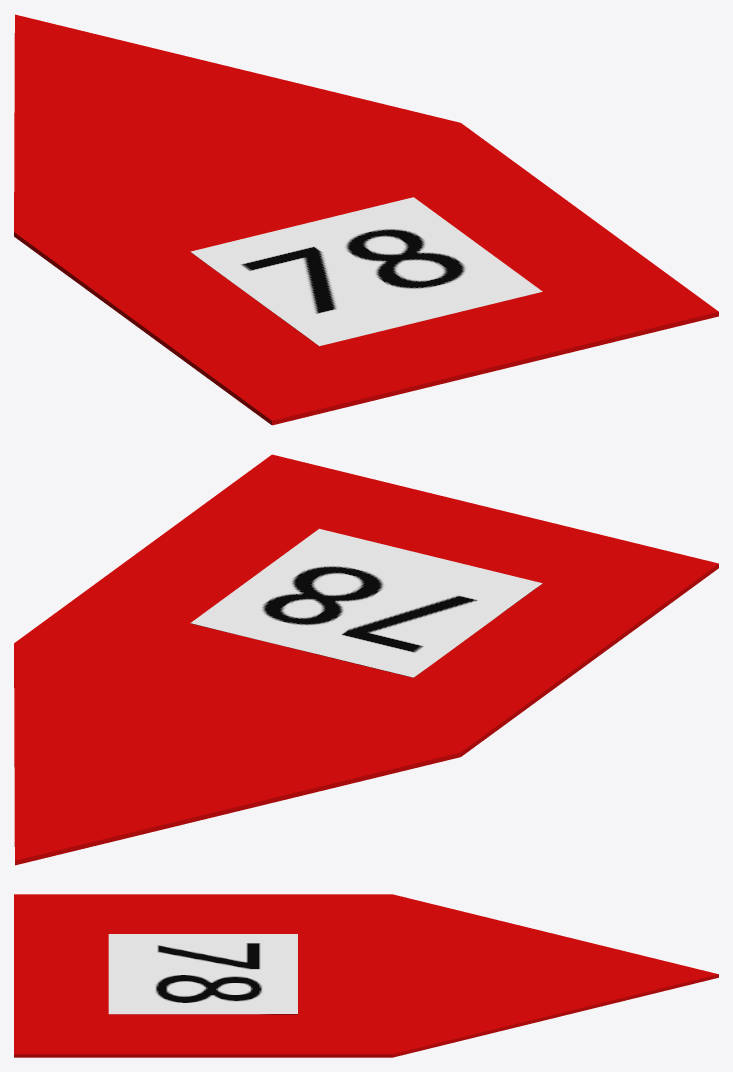
3 views of the same model, one above another, from view 1: azimuth 30°, elevation 25°; view 2: azimuth 150°, elevation 25°; view 3: azimuth 270°, elevation 25° (orthographic). The views are drawn at different scales.
Parts seen in each view (by area): view 1: 立方体, 柱体, 立方体.001; view 2: 立方体, 柱体, 立方体.001; view 3: 立方体, 柱体, 立方体.001.
Part boxes in pixels (x1,y1,x2,y2): 立方体: (14, 123, 718, 425); 柱体: (14, 14, 460, 231); 立方体.001: (190, 197, 542, 346); 立方体: (14, 454, 718, 756); 柱体: (14, 643, 460, 865); 立方体.001: (190, 528, 542, 677); 立方体: (14, 894, 392, 1057); 柱体: (392, 894, 718, 1057); 立方体.001: (108, 934, 297, 1014).
Size of the model in its own units: 2 by 3.72 by 0.022.
3 materials, 1 textured.
